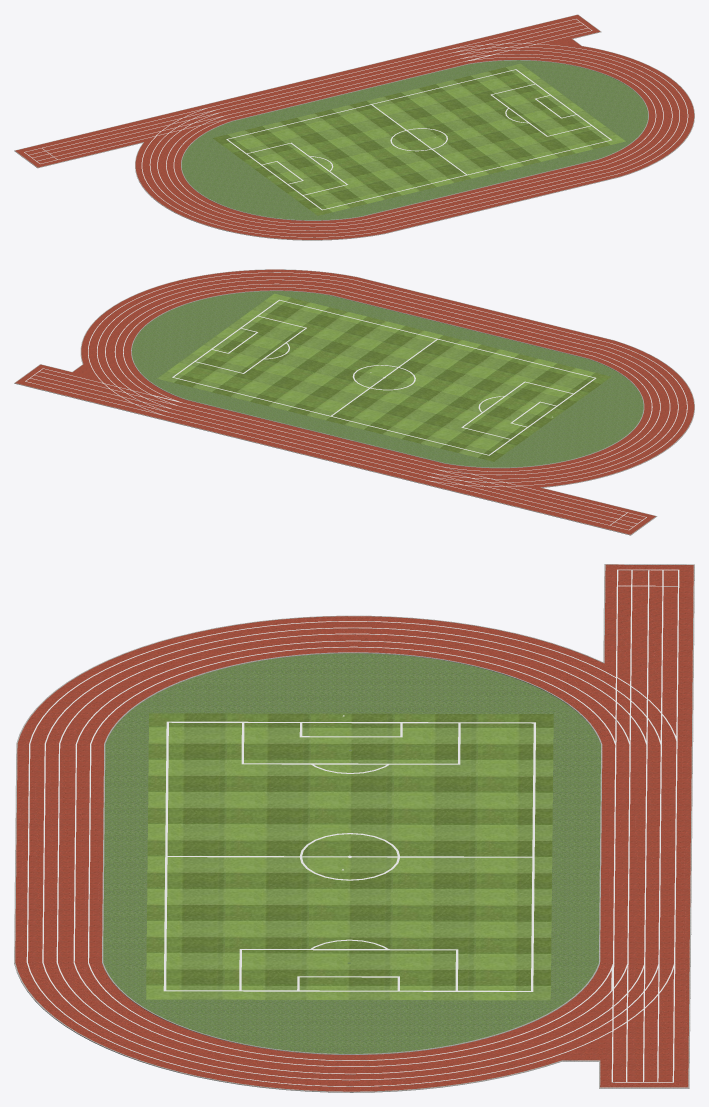
Rendered from playground01.fbx.
3 renders of one model, top to bottom at view 1: azimuth 30°, elevation 25°; view 2: azimuth 150°, elevation 25°; view 3: azimuth 270°, elevation 25°, orthographic. The views are drawn at different scales.
Parts seen in each view (by area): view 1: group1, Componen048, Componen049, Group107; view 2: group1, Componen048, Componen049, Group107; view 3: group1, Componen048, Componen049, Group107.
Part boxes in pixels (x1,y1,x2,y2): group1: (14,14,694,240); Componen048: (213,63,625,215); Componen049: (226,69,611,210); Group107: (181,60,648,220); group1: (14,269,694,535); Componen048: (157,293,611,461); Componen049: (172,299,596,455); Group107: (131,290,644,468); group1: (14,564,694,1092); Componen048: (146,713,553,1000); Componen049: (163,721,535,991); Group107: (102,652,602,1054).
Size of the model in its own units: 97.79 by 0.1 by 53.3.
8 materials, 4 textured.
